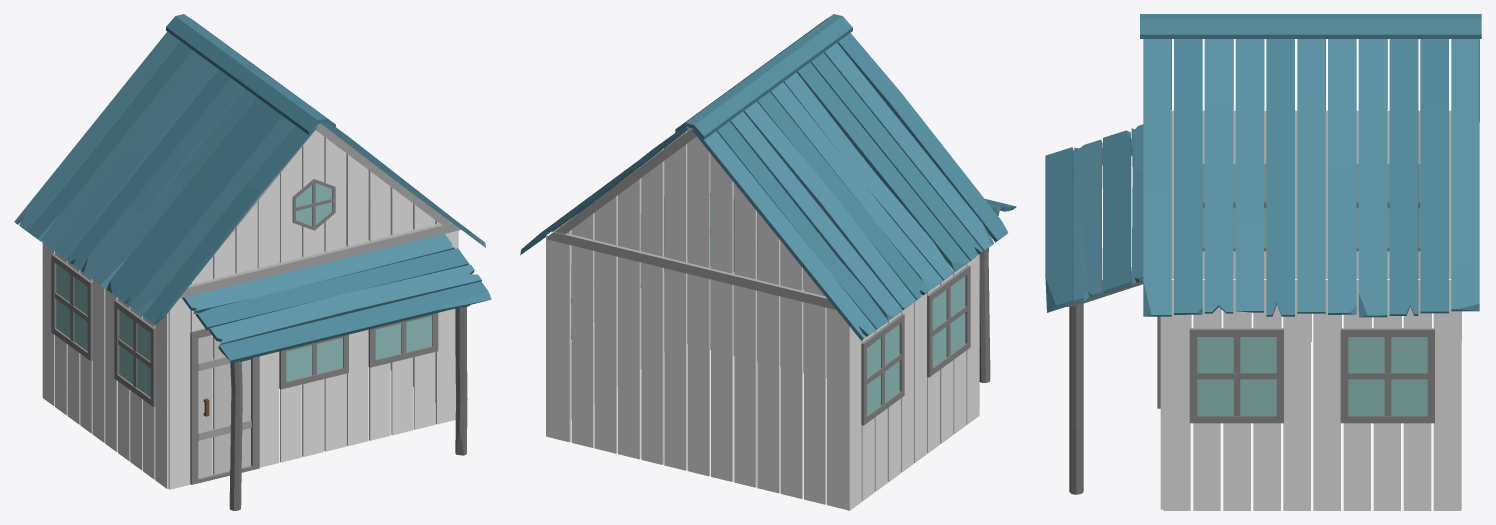
File: House_05.fbx
The picture shows the model from 3 angles, left to right: view 1: azimuth 30°, elevation 25°; view 2: azimuth 150°, elevation 25°; view 3: azimuth 270°, elevation 25°; orthographic projection. The views are drawn at different scales.
Parts seen in each view (by area): view 1: House_05; view 2: House_05; view 3: House_05.
Part boxes in pixels (box(x1,y1,x2,y2)): House_05: box(14, 14, 491, 510); House_05: box(520, 14, 1016, 510); House_05: box(1045, 14, 1481, 510).
Bounding box in the file's own units: 487 × 475 × 459.
